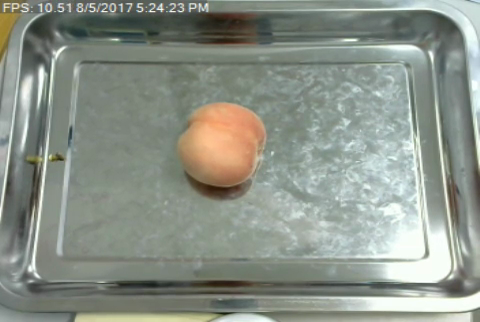Peach: (177, 99, 264, 189)
